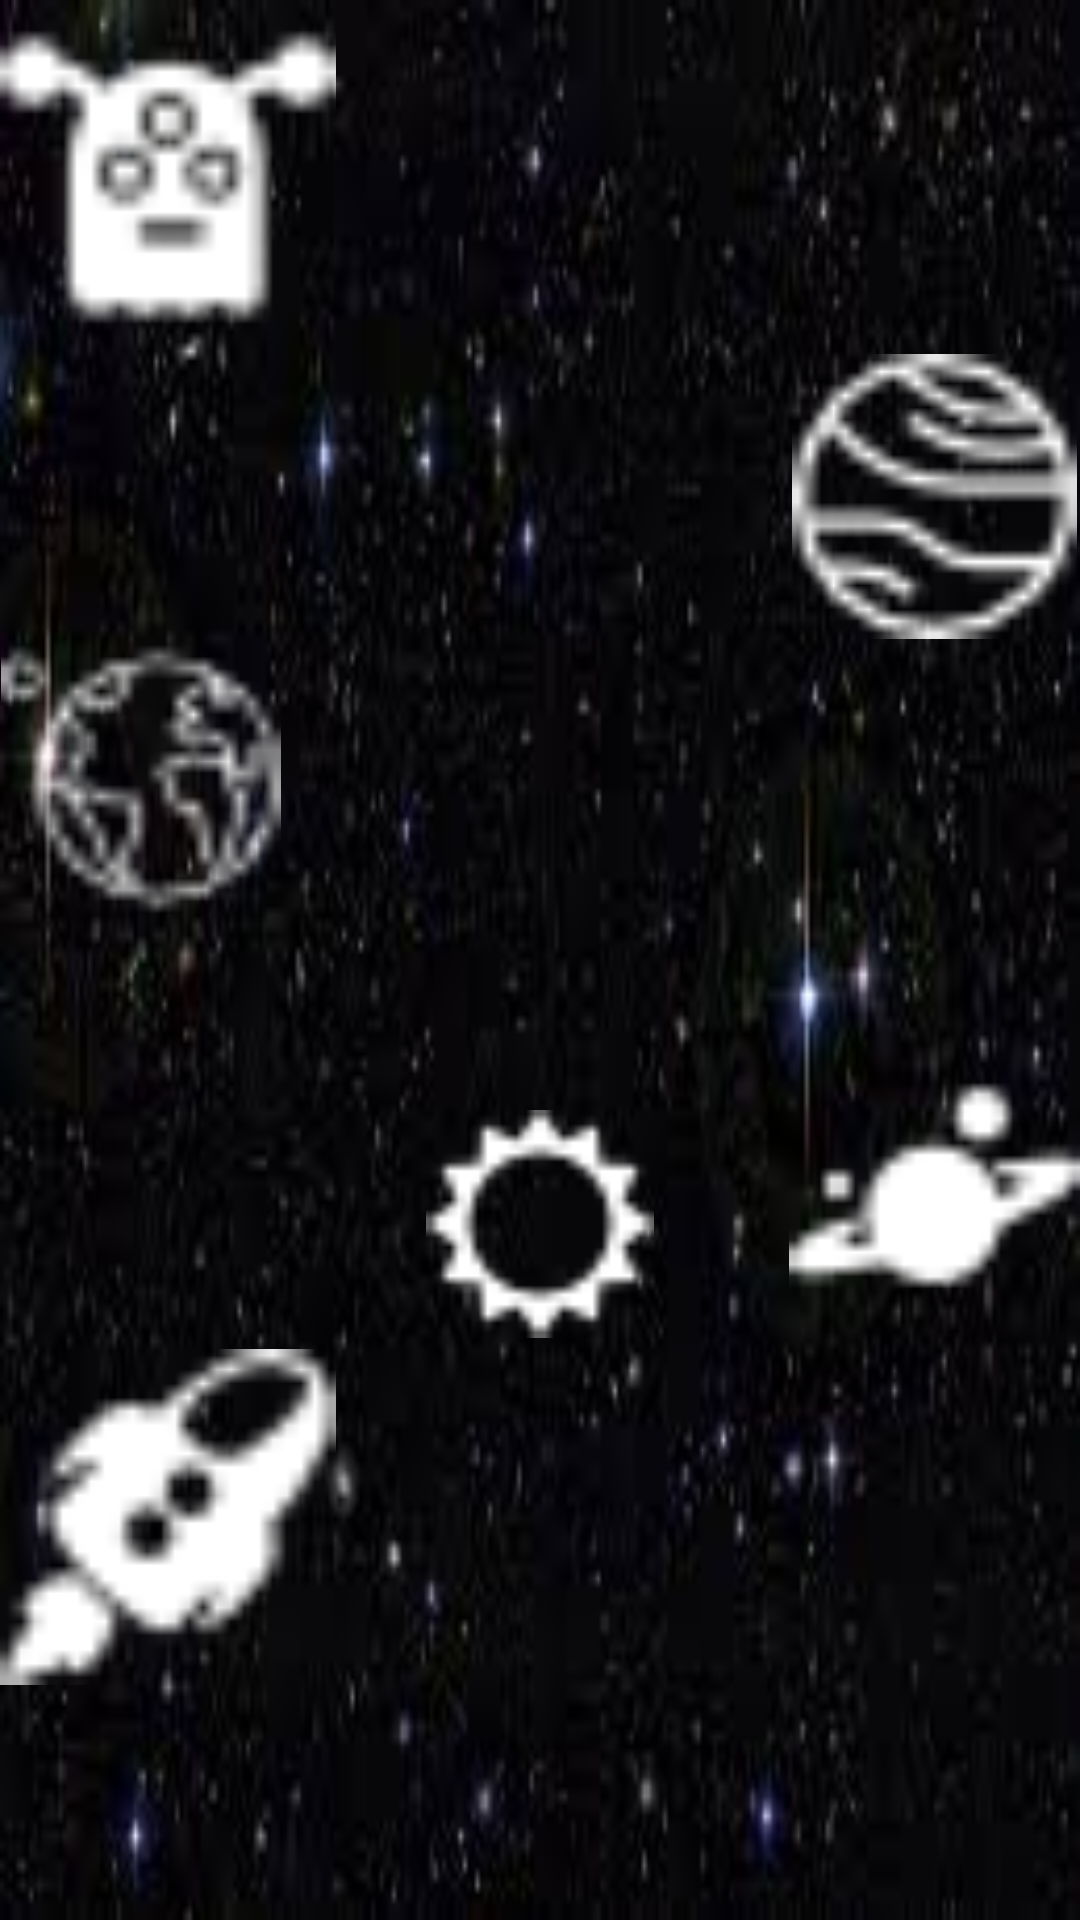

Locate icon controls on the screen. Image size 1080px×1920px, boxes as {"left": x1, "top": y1, "right": x2, "bottom": y2}.
alien: {"left": 0, "top": 0, "right": 336, "bottom": 344}
earthandmoon: {"left": 0, "top": 639, "right": 282, "bottom": 913}
planet: {"left": 792, "top": 354, "right": 1077, "bottom": 639}
saturn: {"left": 789, "top": 1039, "right": 1080, "bottom": 1320}
spacecraft: {"left": 0, "top": 1339, "right": 336, "bottom": 1691}
sun: {"left": 426, "top": 1110, "right": 654, "bottom": 1338}
